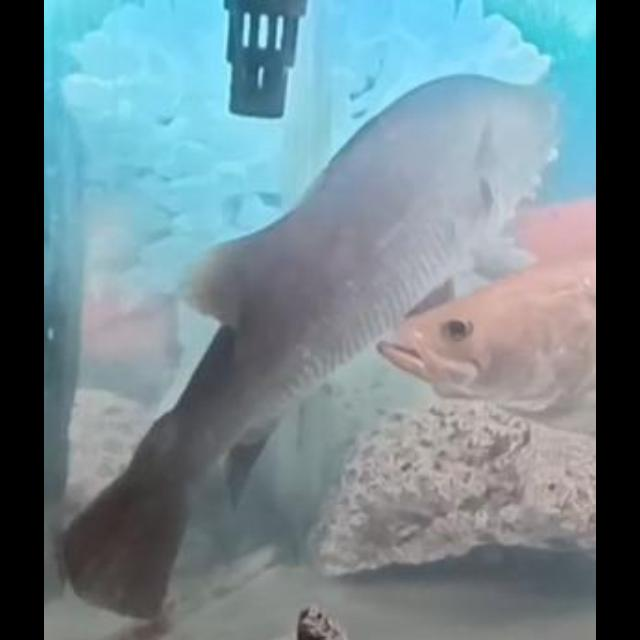Seabass: (62, 75, 562, 620)
